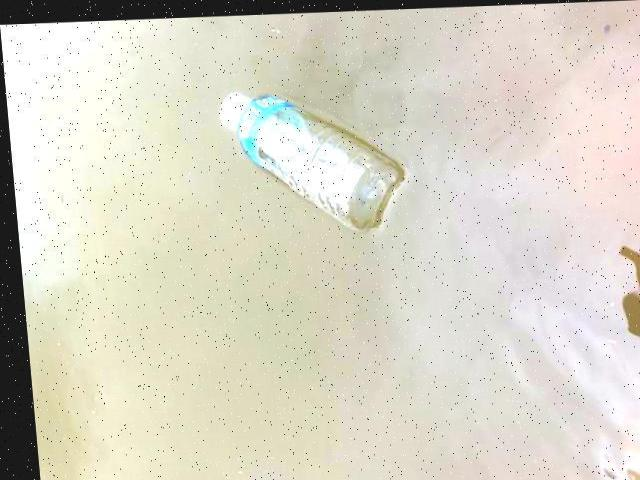Bottle: (202, 85, 413, 237)
